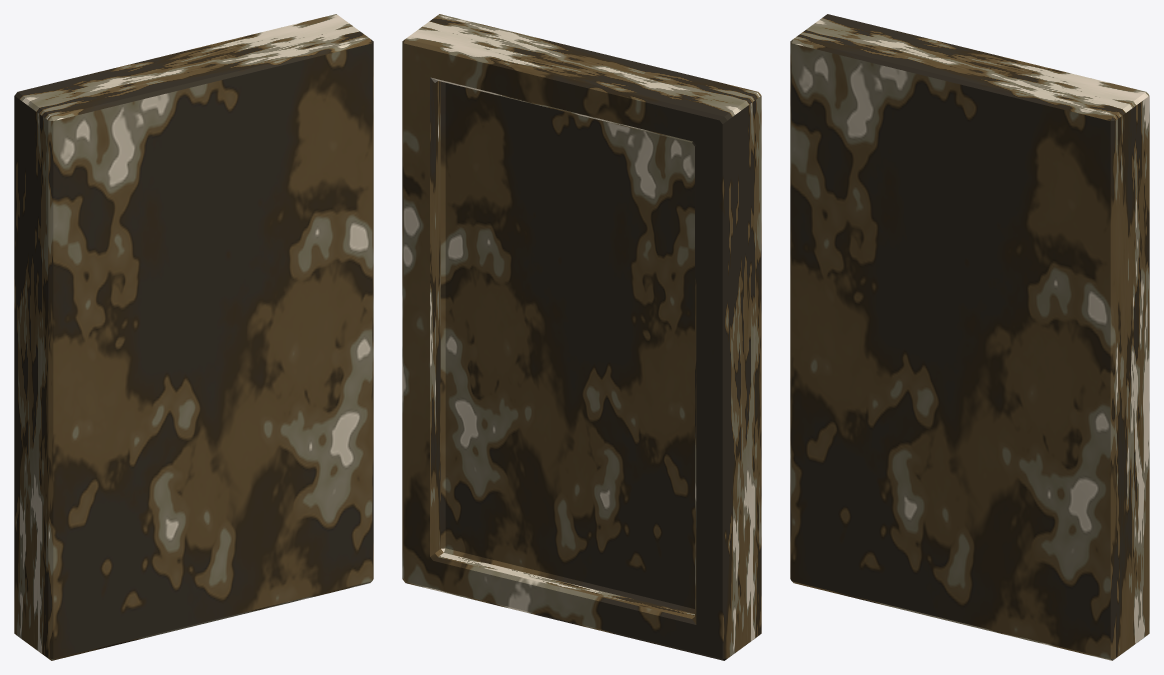
File: TrainingBotHead.fbx
The picture shows the model from 3 angles, left to right: view 1: azimuth 30°, elevation 25°; view 2: azimuth 150°, elevation 25°; view 3: azimuth 330°, elevation 25°; orthographic projection.
Visible parts, largest first — view 1: 큐브.001; view 2: 큐브.001; view 3: 큐브.001.
Part boxes in pixels (box(x1,y1,x2,y2)): 큐브.001: box(14, 14, 373, 660); 큐브.001: box(402, 14, 761, 660); 큐브.001: box(790, 14, 1149, 660).
Size of the model in its own units: 750 by 1200 by 150.
